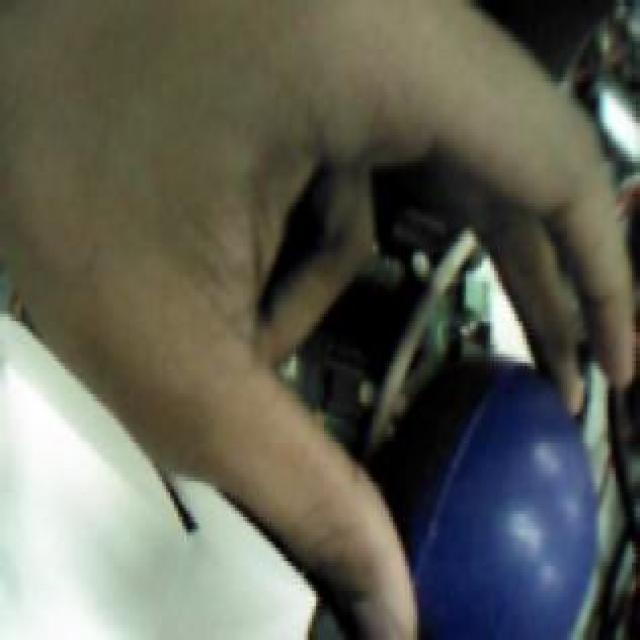BallPurple: (375, 357, 597, 640)
